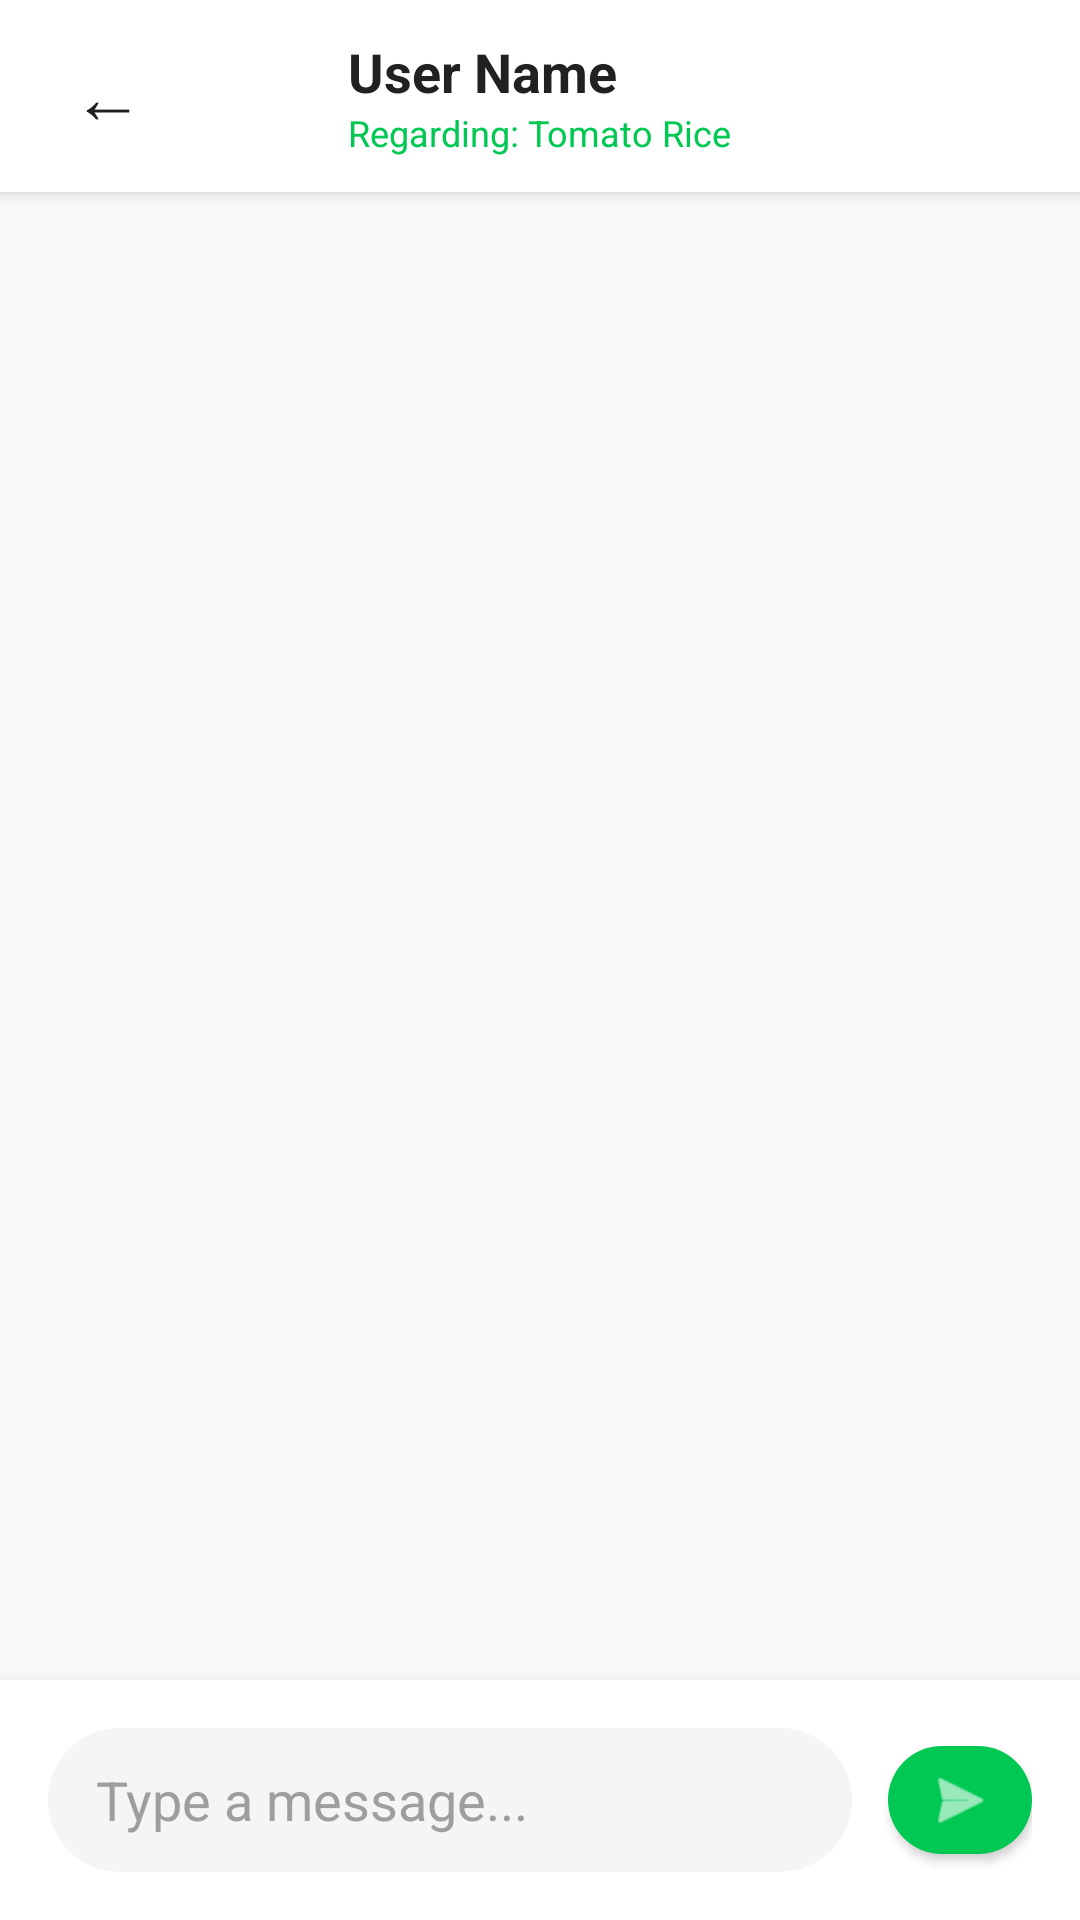

Icon click points for this 1080px×1920px phone screenshot, format (x,y):
send: (960,1803)
